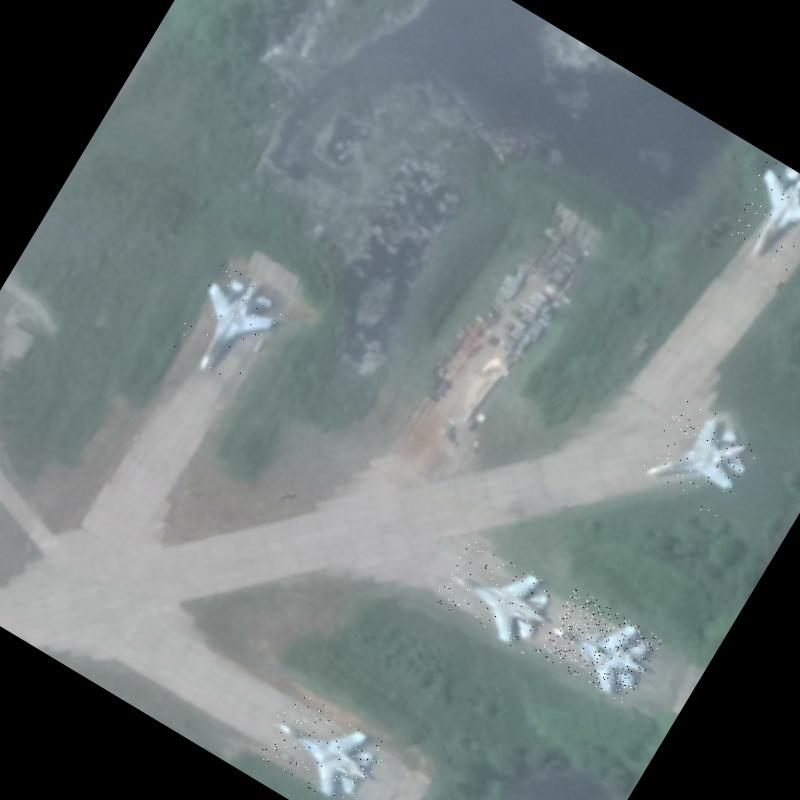A1: (432, 535, 566, 658), (636, 394, 763, 520), (166, 260, 288, 390), (253, 686, 390, 800), (534, 586, 664, 706), (719, 155, 800, 279)
